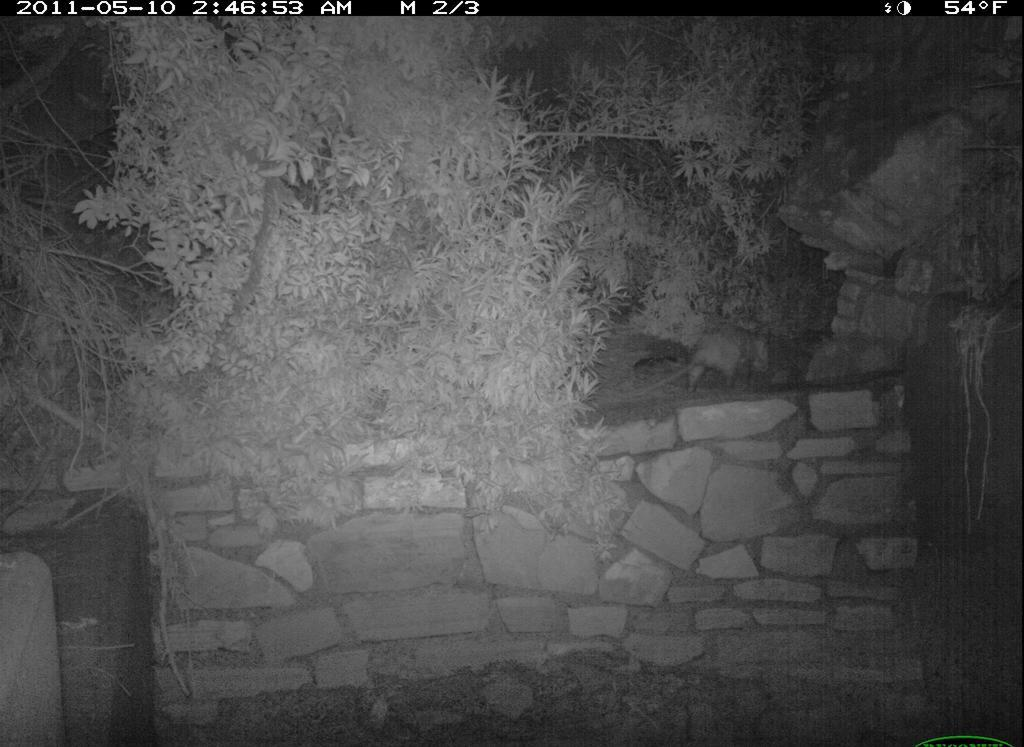opossum: (618, 317, 781, 400)
